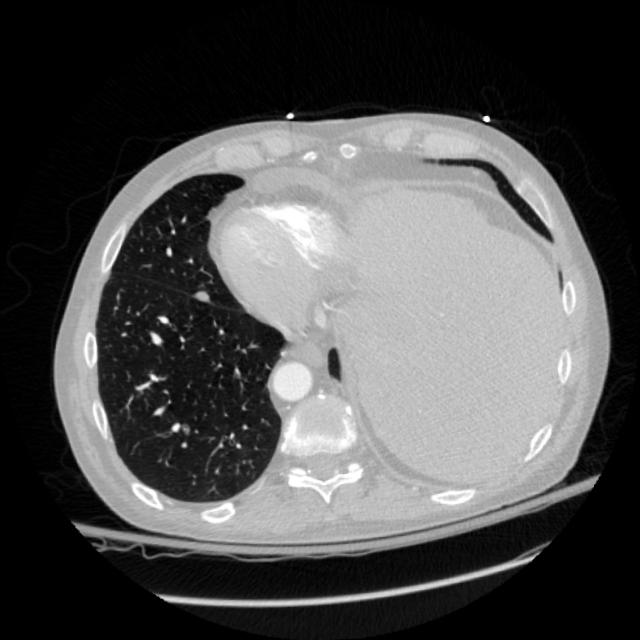nodule: (188, 280, 220, 312)
